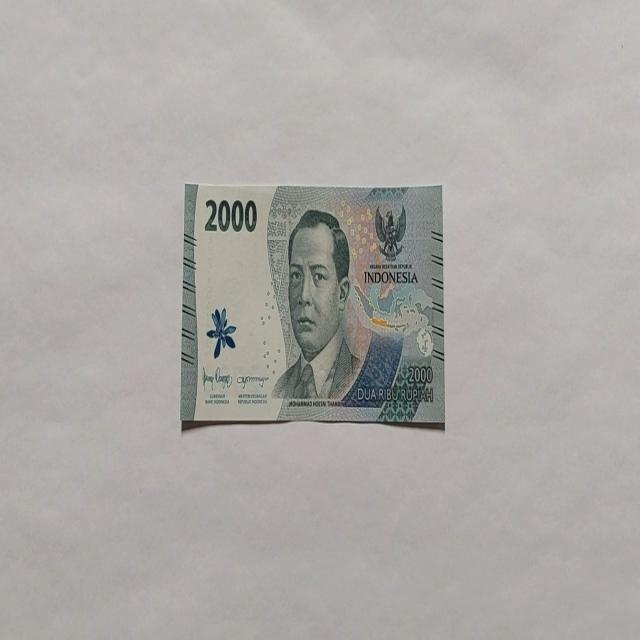dua ribu rupiah: (180, 180, 444, 428), (270, 207, 364, 404)
